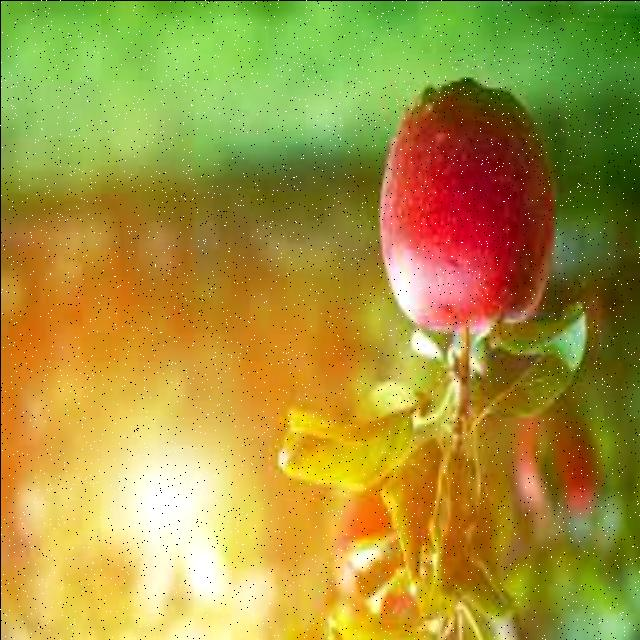HEALTHY: (363, 63, 570, 383)
